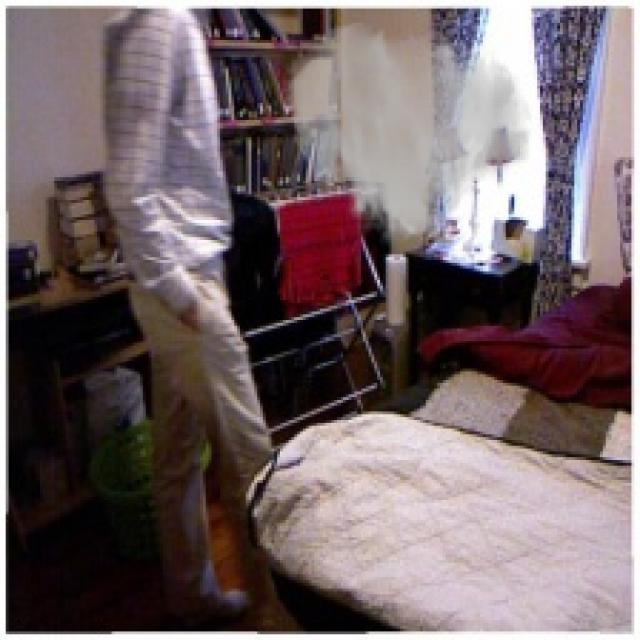Smoke: (280, 20, 534, 252)
